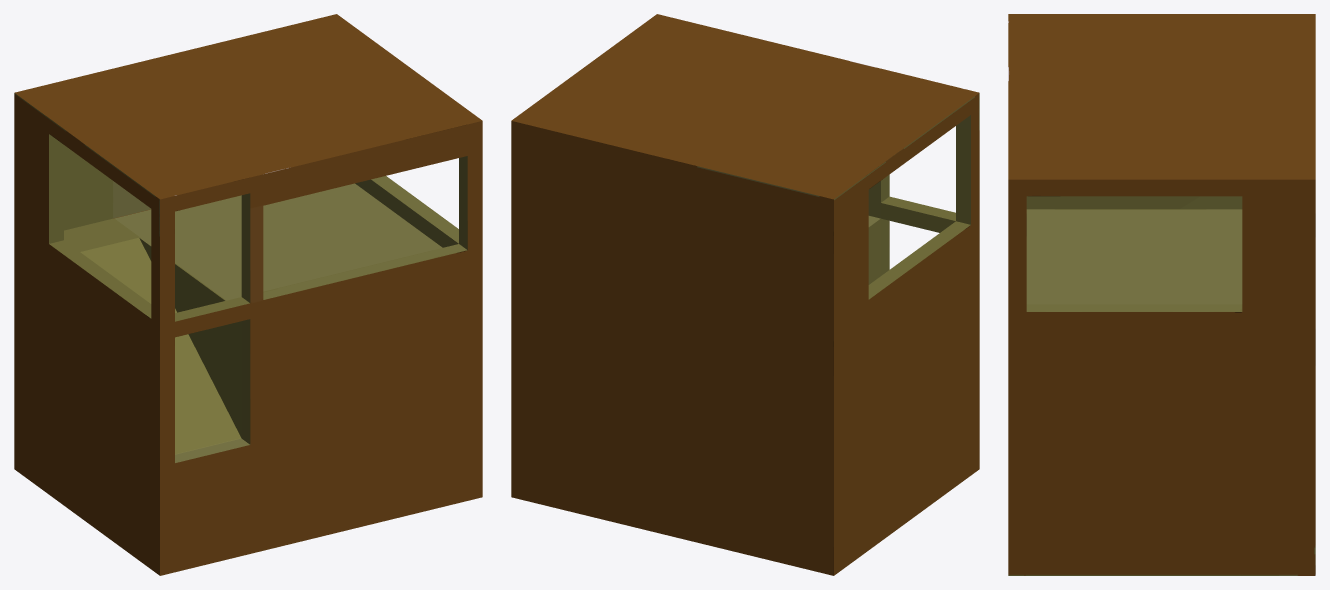
The model's file is structure.fbx.
3 views of the same model, side by side, from view 1: azimuth 30°, elevation 25°; view 2: azimuth 150°, elevation 25°; view 3: azimuth 270°, elevation 25° (orthographic). The views are drawn at different scales.
Parts seen in each view (by area): view 1: Cube; view 2: Cube; view 3: Cube.
Part boxes in pixels (x1=…): Cube: x1=14, y1=14, x2=482, y2=575; Cube: x1=511, y1=14, x2=979, y2=575; Cube: x1=1008, y1=14, x2=1315, y2=575.
Bounding box in the file's own units: 1108 × 1235 × 867.
